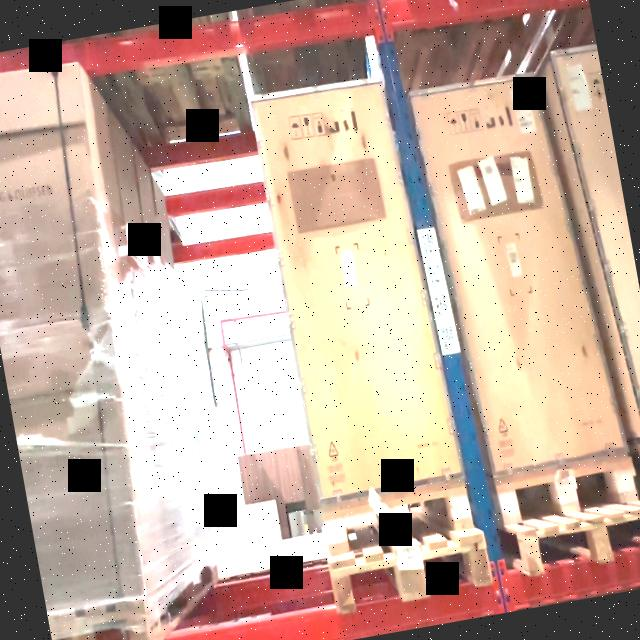box: (250, 73, 452, 499), (428, 72, 600, 474)
